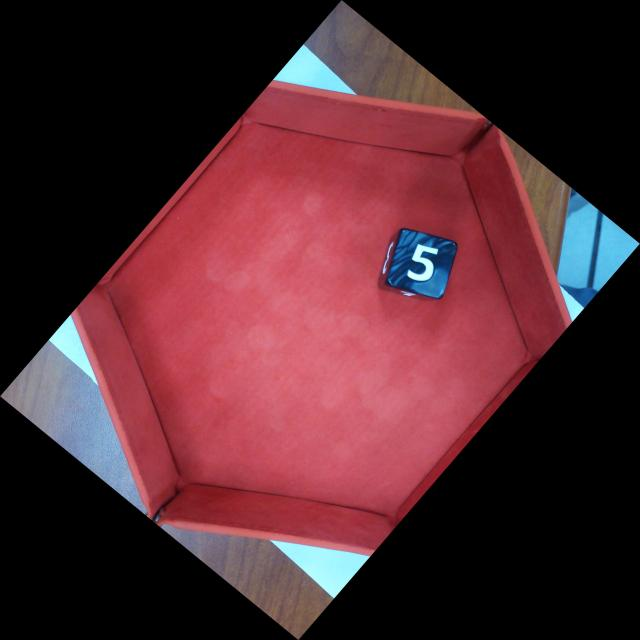dice: (383, 225, 461, 302)
